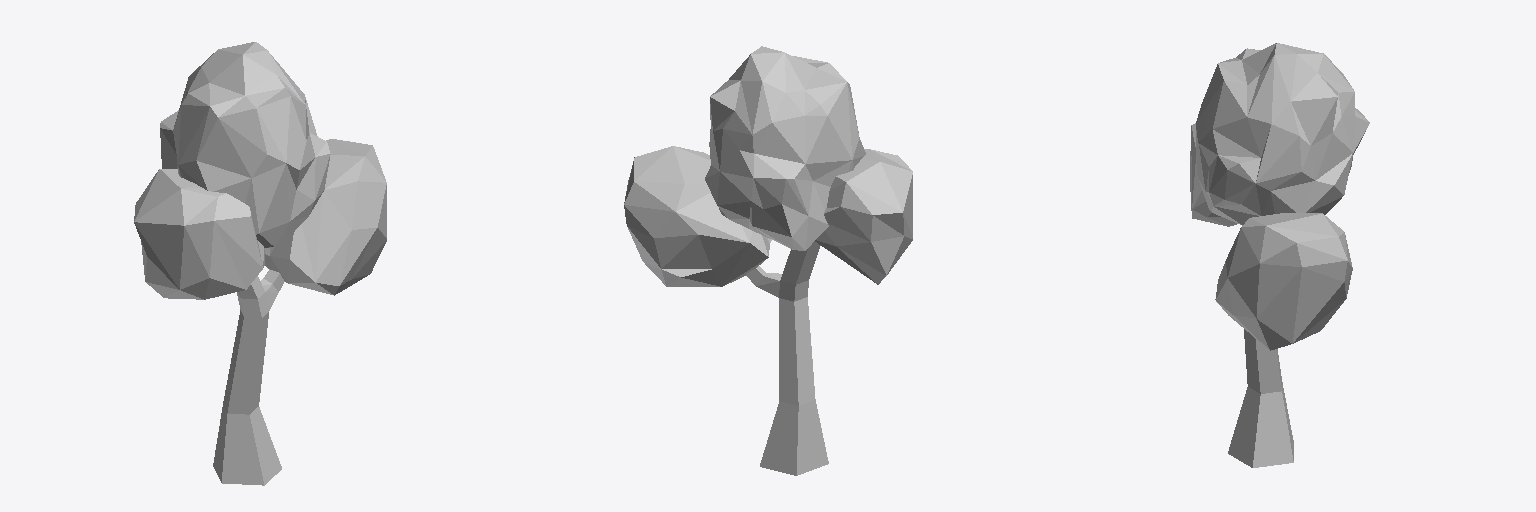
The model's file is tree01.obj.
3 views of the same model, side by side, from view 1: azimuth 30°, elevation 25°; view 2: azimuth 150°, elevation 25°; view 3: azimuth 270°, elevation 25° (orthographic).
Parts seen in each view (by area): view 1: SM_Env_Tree_01_Mesh; view 2: SM_Env_Tree_01_Mesh; view 3: SM_Env_Tree_01_Mesh.
Part boxes in pixels (x1,y1,x2,y2): SM_Env_Tree_01_Mesh: (134, 42, 386, 485); SM_Env_Tree_01_Mesh: (624, 46, 912, 475); SM_Env_Tree_01_Mesh: (1190, 43, 1369, 467).
Size of the model in its own units: 2.32 by 3.55 by 1.41.